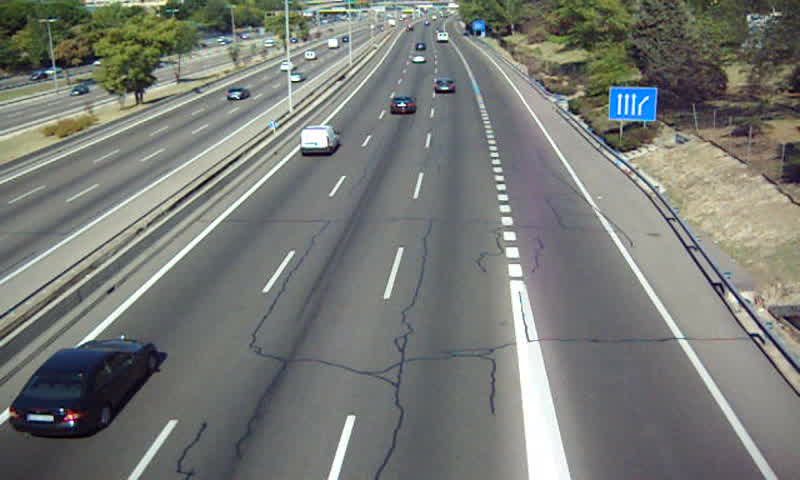car: (8, 338, 157, 439), (389, 94, 418, 114), (432, 77, 456, 96)
van: (300, 126, 341, 154)
